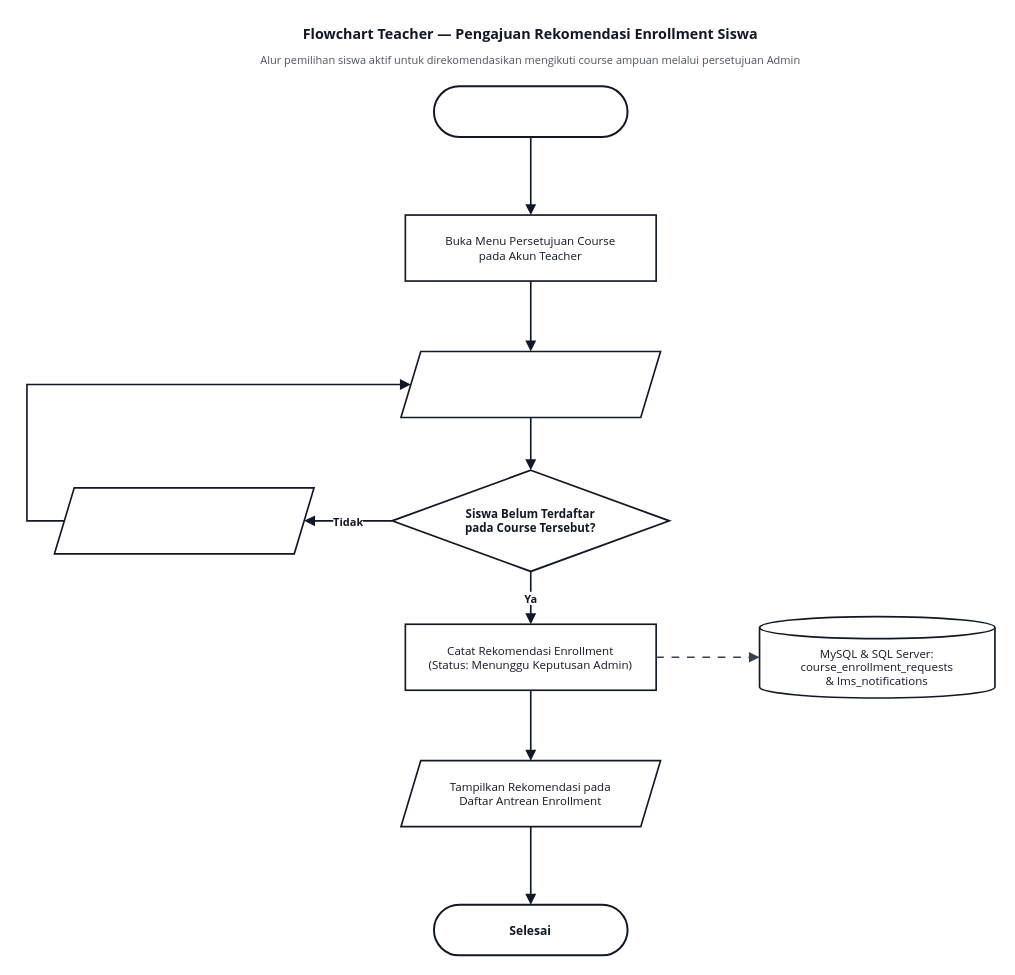
The diagram is 1015 pixels wide and 975 high, and some of its shapes have lost their labels. Each missing label, with the box of its shape:
Mulai: (432, 85, 628, 137)
Pilih Course Ampuan, Pilih Siswa Aktif & Isi Catatan Rekomendasi: (400, 350, 661, 418)
Tampilkan Peringatan Siswa Sudah Terdaftar / Dalam Antrean: (53, 487, 314, 554)
